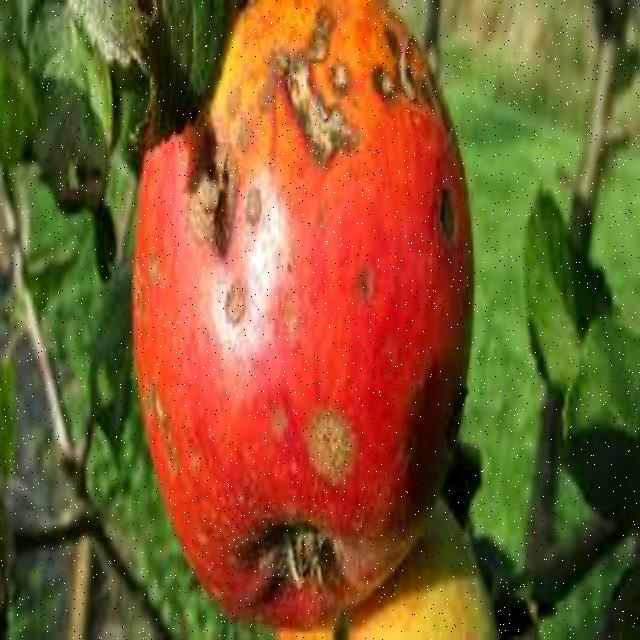SCAB: (114, 0, 494, 621)
